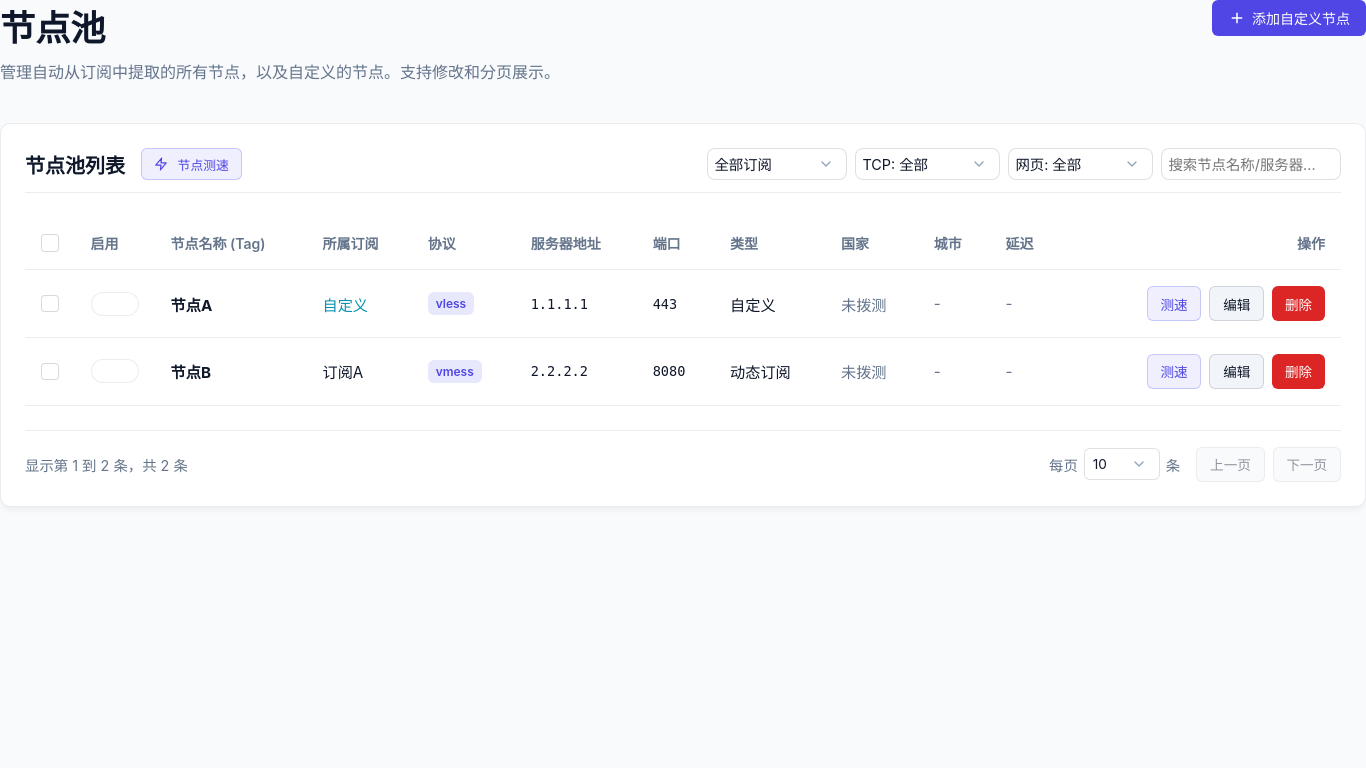
Test: NodesView - 节点池管理 › 节点测速功能与测试目标网址下拉选择 › 打开节点测速 Modal，显示 8 个预设目标网址和自定义选项，默认选中 Google（通用）
Click the button "节点测速". click: (191, 164)
box: [141, 148, 242, 180]
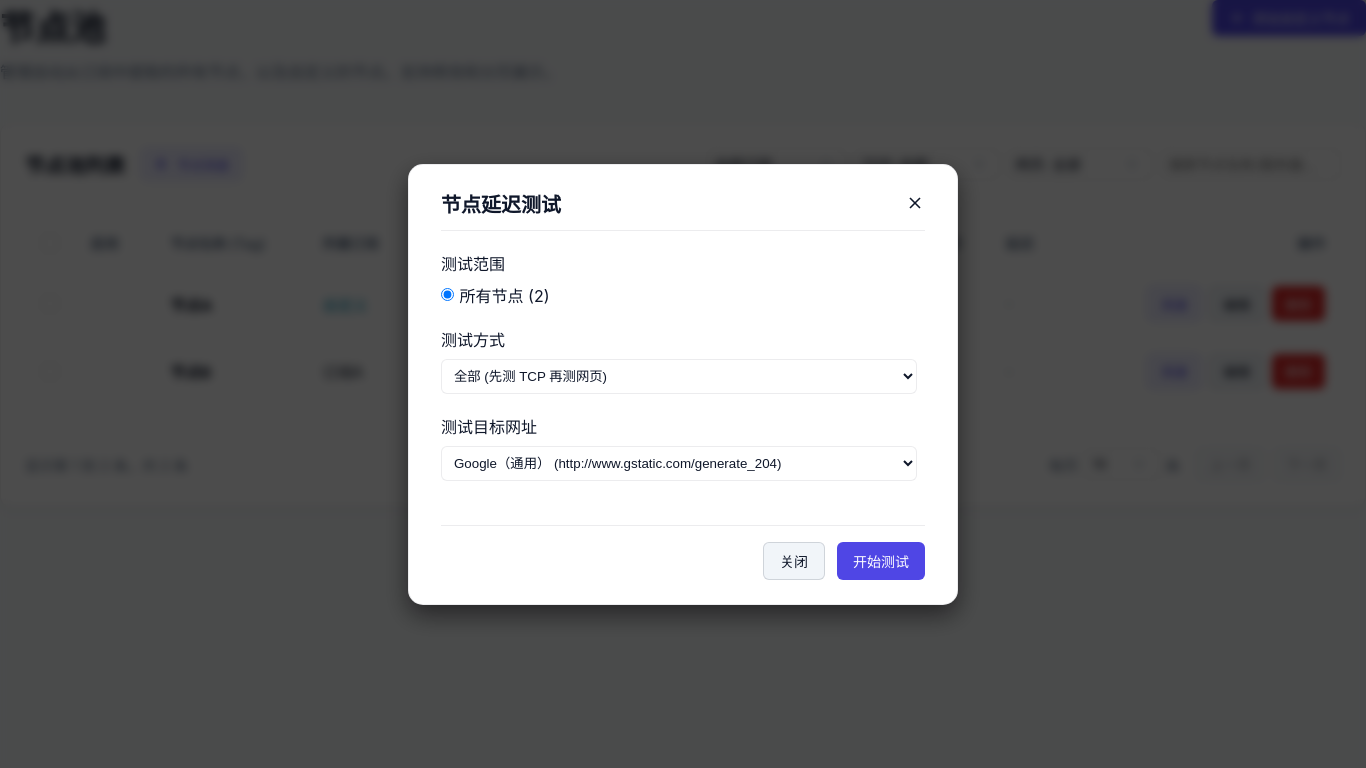
Expected: the dropdown below "测试目标网址" is shown, [441, 446, 917, 480]
